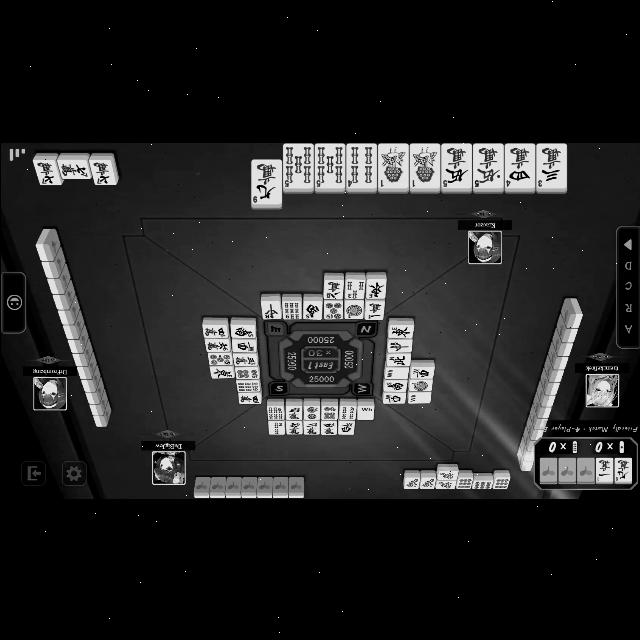1m: (364, 302, 382, 318)
1p: (344, 302, 362, 318), (408, 380, 430, 390)
1s: (410, 144, 438, 186), (378, 143, 406, 185)
2m: (304, 421, 318, 434)
2p: (304, 406, 318, 418)
2s: (268, 421, 284, 434)
3m: (536, 143, 566, 187), (233, 353, 257, 365), (286, 405, 300, 419)
3s: (344, 278, 364, 298)
4m: (503, 142, 533, 186), (202, 324, 224, 338), (238, 393, 258, 403), (322, 421, 334, 434)
4s: (346, 146, 374, 187), (340, 404, 354, 418)
5m: (472, 142, 502, 186), (442, 144, 468, 186)
5p: (324, 300, 341, 318), (207, 354, 231, 364)
5s: (284, 144, 312, 186), (316, 143, 342, 187)
6m: (205, 339, 228, 351), (285, 420, 301, 434)
6p: (235, 367, 257, 378), (322, 405, 336, 419)
6s: (266, 406, 282, 419)
7m: (91, 158, 112, 184), (58, 160, 88, 178), (36, 160, 54, 183)
8m: (324, 278, 342, 298)
9m: (251, 159, 279, 201)
9p: (473, 480, 491, 488), (494, 477, 508, 487), (457, 477, 471, 487)
9s: (282, 300, 298, 318), (236, 382, 258, 391)
chun: (261, 298, 279, 318), (388, 340, 410, 350)
haku: (408, 390, 430, 402), (386, 367, 406, 378), (358, 405, 372, 419)
hatsu: (421, 476, 434, 488), (436, 480, 454, 488), (405, 477, 417, 487), (438, 472, 456, 478)
nan: (303, 299, 321, 319), (230, 322, 254, 336), (384, 379, 406, 391)
pe: (387, 353, 409, 365)
sha: (410, 365, 432, 377), (231, 340, 255, 350), (382, 392, 403, 402), (338, 421, 354, 433)
tou: (368, 279, 384, 297), (388, 324, 412, 336), (210, 367, 232, 377)
